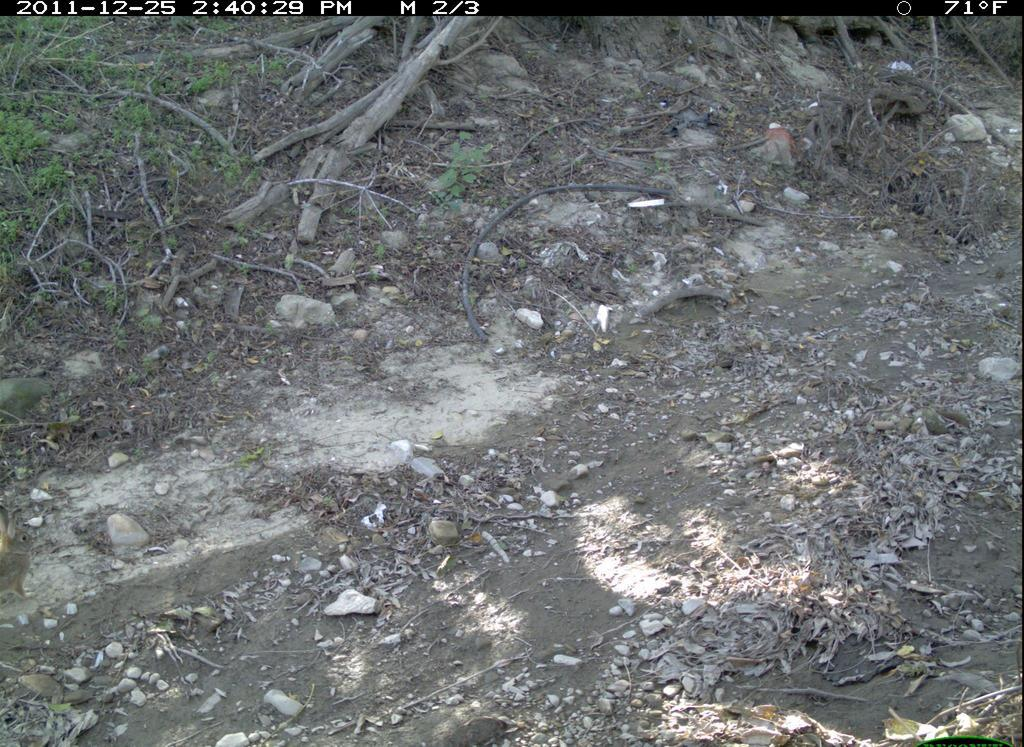rabbit: (1, 492, 45, 612)
